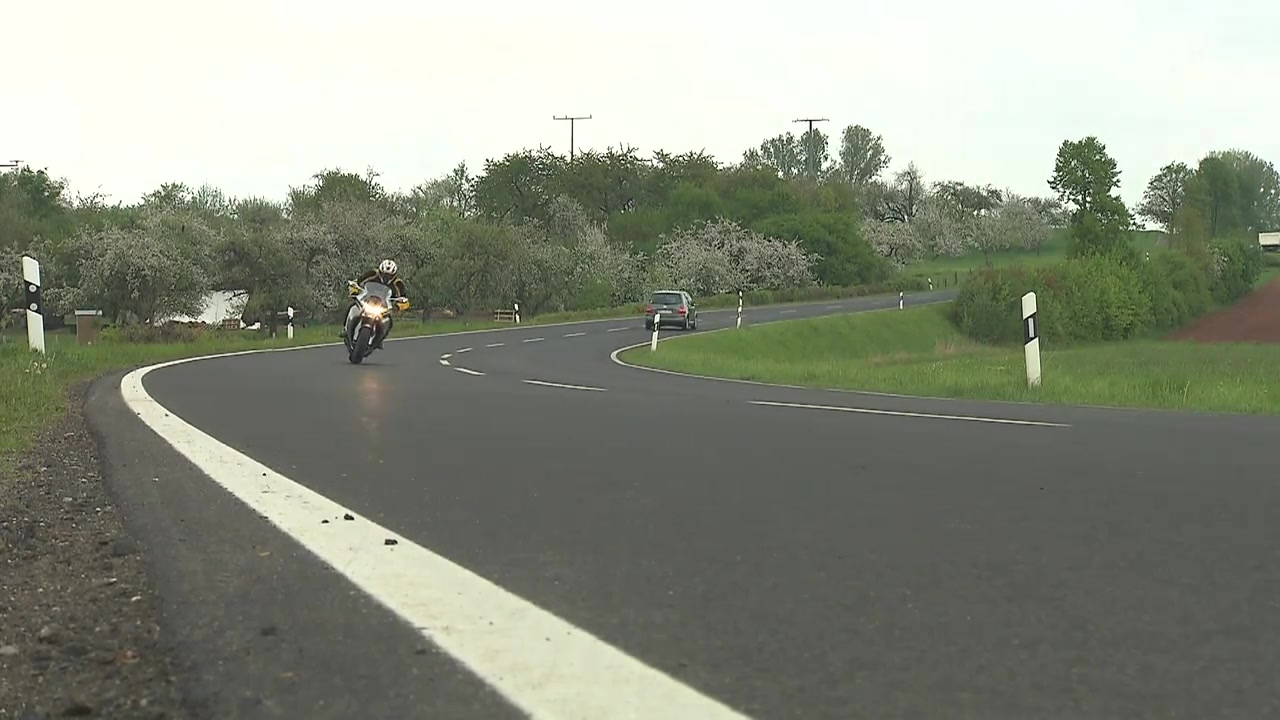motorbike: (339, 275, 415, 367)
